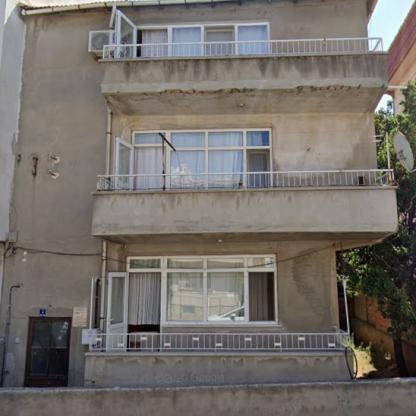door: (25, 316, 72, 387), (106, 272, 130, 352), (113, 137, 134, 188), (117, 10, 137, 58)
window: (127, 255, 275, 325), (167, 129, 272, 188), (167, 22, 272, 56), (133, 130, 166, 146)
